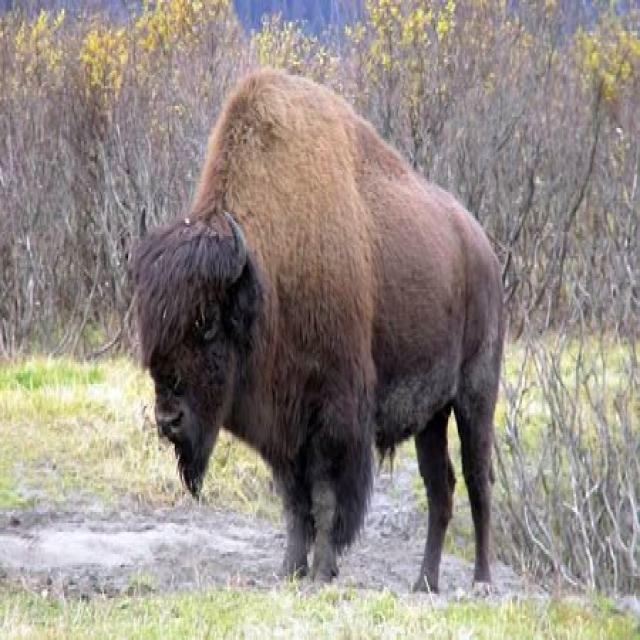bison: (131, 68, 505, 589)
